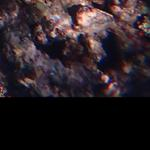dead: (1, 1, 147, 93)
